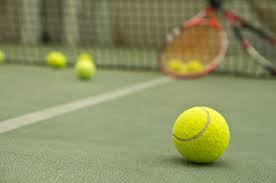tennis_ball: (171, 105, 230, 164), (75, 58, 95, 81), (46, 49, 66, 70), (165, 56, 182, 73), (186, 57, 203, 74), (179, 62, 190, 75), (79, 52, 93, 62), (1, 48, 6, 64)
